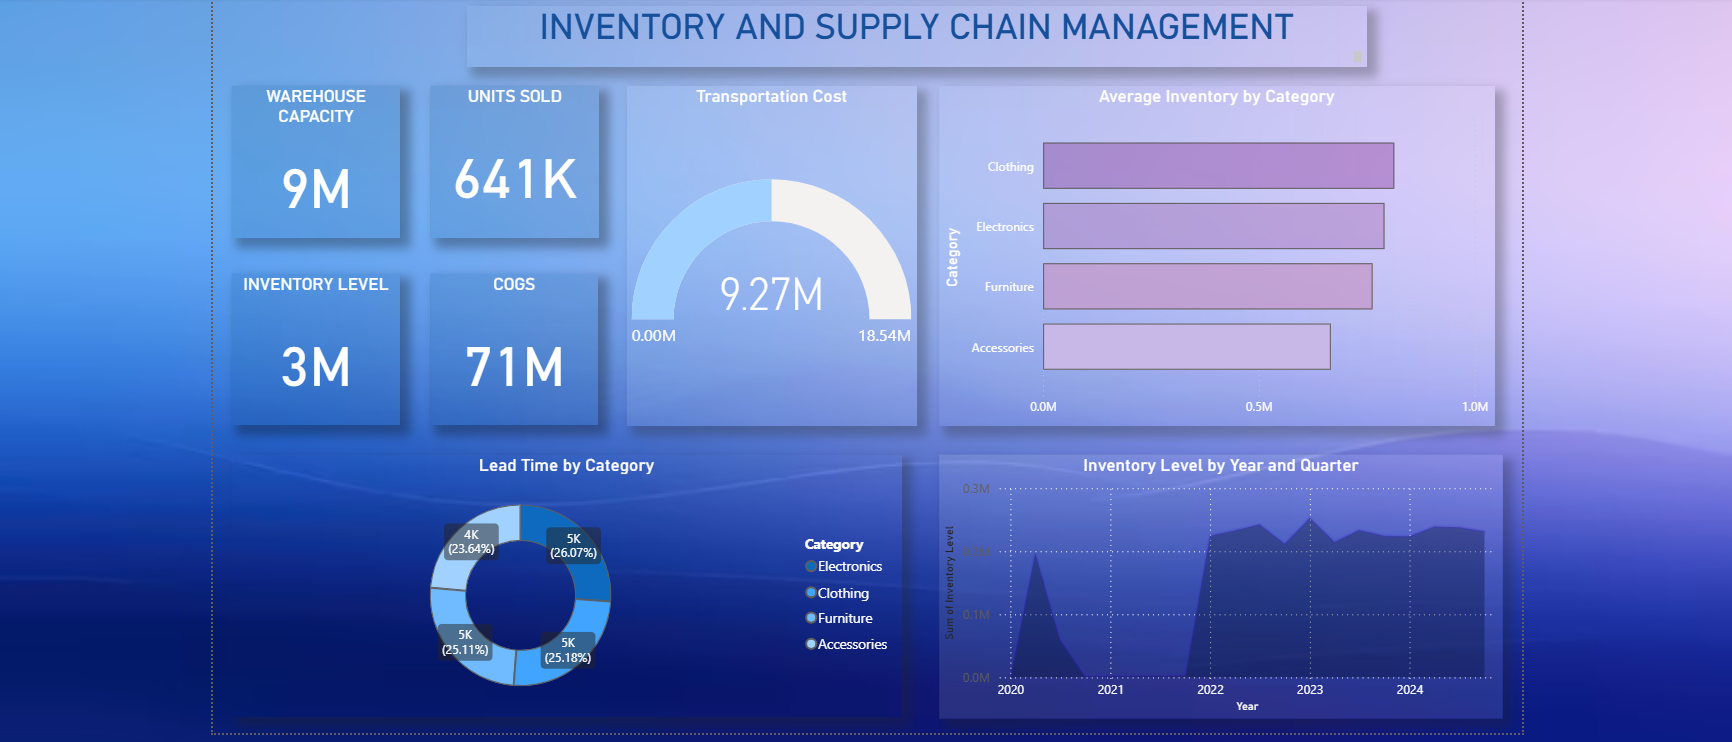

The page's visual inventory and layout, read from the dashboard file:
{"tool":"powerbi","page":{"name":"Page 1","canvas":[1280,720],"ordinal":0},"visuals":[{"type":"card","title":"WAREHOUSE CAPACITY","fields":{"Values":["Sum(Inventory_SupplyChain_Dataset.Warehouse Capacity)"]},"box":[18.3,86.8,165.1,149.2],"z":0},{"type":"card","title":"UNITS SOLD","fields":{"Values":["Sum(Inventory_SupplyChain_Dataset.Units Sold)"]},"box":[212.8,86.8,165.1,149.2],"z":1000},{"type":"card","title":"COGS","fields":{"Values":["Sum(Inventory_SupplyChain_Dataset.Cost of Goods Sold (COGS))"]},"box":[212.8,270.2,163.9,149.2],"z":2000},{"type":"card","title":"INVENTORY LEVEL","fields":{"Values":["Sum(Inventory_SupplyChain_Dataset.Inventory Level)"]},"box":[18.3,270.2,165.1,149.2],"z":3000},{"type":"donutChart","title":" Lead Time  by Category","fields":{"Category":["Inventory_SupplyChain_Dataset.Category"],"Y":["Sum(Inventory_SupplyChain_Dataset.Lead Time (Days))"]},"box":[18.3,447.6,655.4,256.8],"z":4000},{"type":"barChart","title":" Average Inventory by Category","fields":{"Category":["Inventory_SupplyChain_Dataset.Category"],"Y":["Sum(Inventory_SupplyChain_Dataset.Average Inventory)"]},"box":[710.5,86.8,542.9,332.6],"z":5000},{"type":"stackedAreaChart","title":" Inventory Level by Year and Quarter","fields":{"Y":["Sum(Inventory_SupplyChain_Dataset.Inventory Level)"],"Category":["Inventory_SupplyChain_Dataset.Date.Variation.Date Hierarchy.Year","Inventory_SupplyChain_Dataset.Date.Variation.Date Hierarchy.Quarter"]},"box":[710.5,447.6,551.5,258],"z":6000},{"type":"gauge","title":"Transportation Cost","fields":{"Y":["Sum(Inventory_SupplyChain_Dataset.Transportation Cost)"]},"box":[404.8,86.8,283.7,332.6],"z":7000},{"type":"textbox","title":"INVENTORY AND SUPPLY CHAIN MANAGEMENT","box":[248.2,8.6,880.4,59.9],"z":8000}]}

Visuals, with their boxes in screenshot pixels (x1, y1, x2, y2):
"WAREHOUSE CAPACITY" card: 231,88,399,241
"UNITS SOLD" card: 429,88,597,241
"COGS" card: 429,275,596,428
"INVENTORY LEVEL" card: 231,275,399,428
" Lead Time  by Category" donutChart: 231,456,899,718
" Average Inventory by Category" barChart: 936,88,1490,428
" Inventory Level by Year and Quarter" stackedAreaChart: 936,456,1498,719
"Transportation Cost" gauge: 625,88,914,428
"INVENTORY AND SUPPLY CHAIN MANAGEMENT" textbox: 465,9,1362,70
